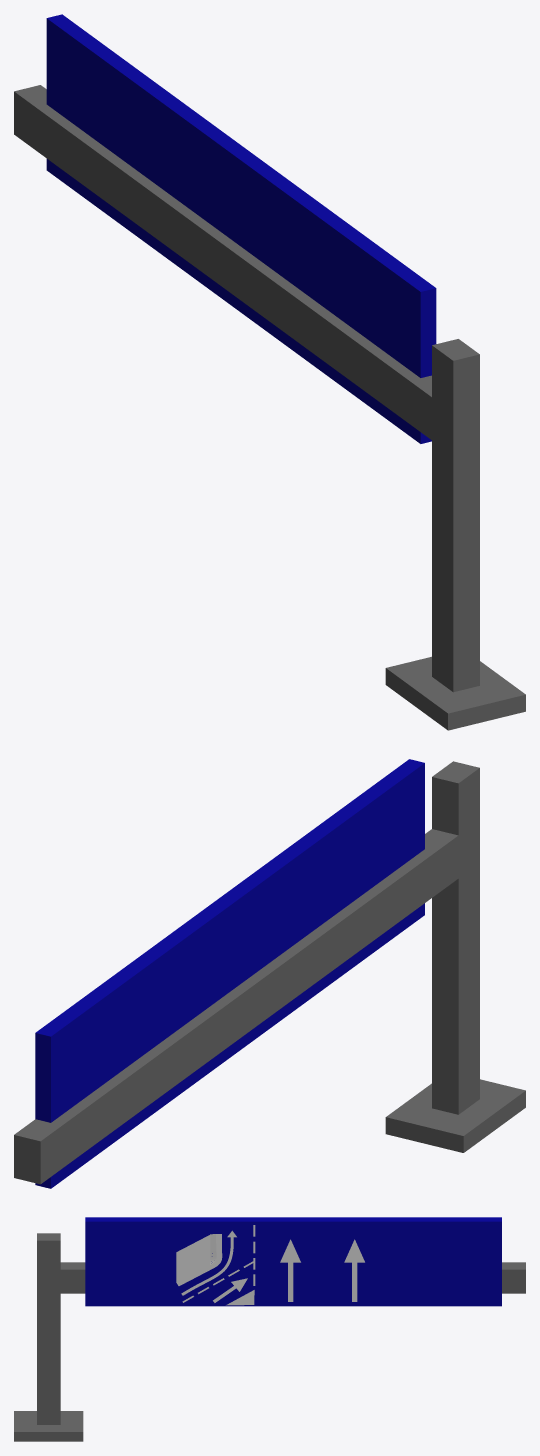
Rendered from MotorwayMergeSign1.fbx.
The picture shows the model from 3 angles, top to bottom: view 1: azimuth 30°, elevation 25°; view 2: azimuth 150°, elevation 25°; view 3: azimuth 270°, elevation 25°; orthographic projection. The views are drawn at different scales.
Parts seen in each view (by area): view 1: GantrySignLanesMerging, Cube; view 2: GantrySignLanesMerging, Cube; view 3: Cube, GantrySignLanesMerging, Plane.007, Plane.001, Plane, Plane.006.
Boxes of the visible parts, x1,y1,x2,y2 form: GantrySignLanesMerging: [14, 85, 525, 730]; Cube: [46, 14, 436, 443]; GantrySignLanesMerging: [14, 761, 525, 1184]; Cube: [35, 759, 424, 1188]; Cube: [85, 1217, 501, 1306]; GantrySignLanesMerging: [14, 1233, 525, 1441]; Plane.007: [176, 1234, 222, 1285]; Plane.001: [280, 1239, 300, 1301]; Plane: [344, 1239, 364, 1301]; Plane.006: [181, 1230, 236, 1295].
Bounding box in the file's own units: 156 × 733 × 1597.
